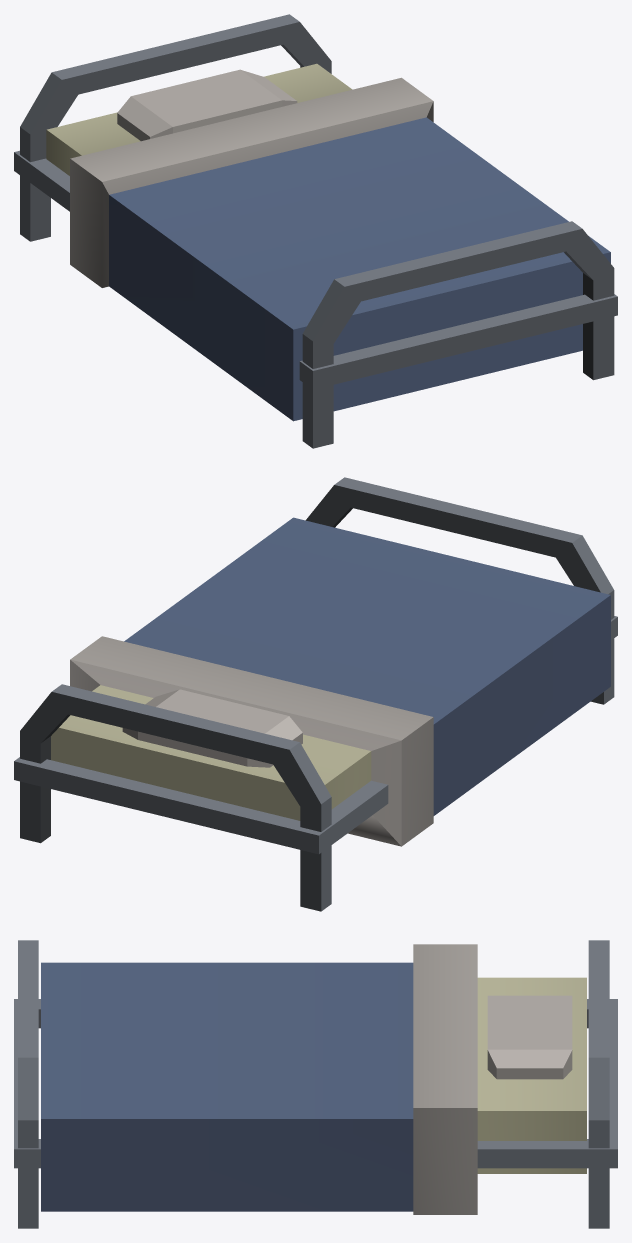
The model's file is AI_Prop_Bed.fbx.
3 views of the same model, one above another, from view 1: azimuth 30°, elevation 25°; view 2: azimuth 150°, elevation 25°; view 3: azimuth 270°, elevation 25° (orthographic).
Parts seen in each view (by area): view 1: AI_Prop_Bed; view 2: AI_Prop_Bed; view 3: AI_Prop_Bed.
Boxes of the visible parts, x1,y1,x2,y2 form: AI_Prop_Bed: (14,14,617,448); AI_Prop_Bed: (14,477,617,911); AI_Prop_Bed: (14,940,617,1228).
Size of the model in its own units: 2.51 by 1.12 by 3.92.
